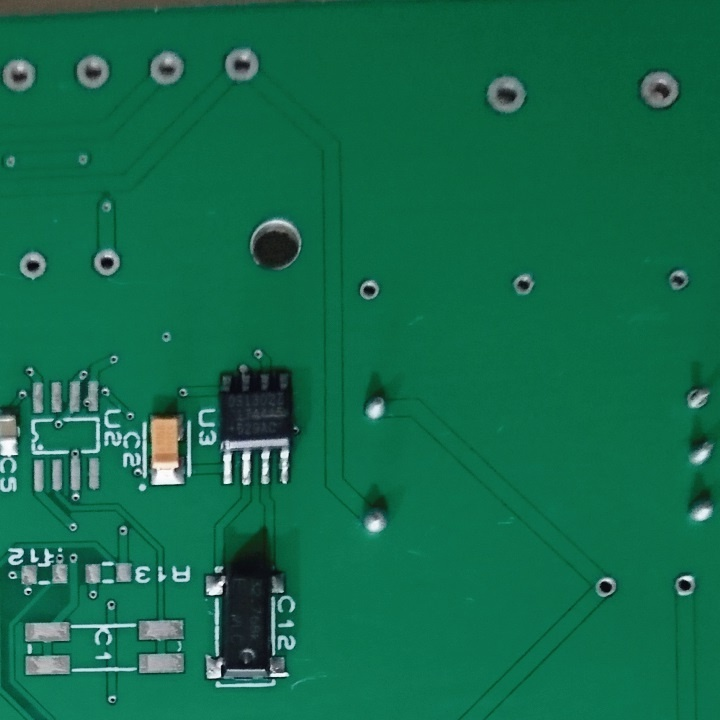F: (635, 64, 687, 115), (483, 69, 533, 118), (219, 41, 265, 89), (68, 47, 114, 94), (144, 47, 191, 93), (1, 50, 44, 98), (87, 248, 129, 280), (681, 378, 714, 418), (13, 251, 53, 283), (672, 570, 701, 605), (593, 572, 619, 603), (510, 272, 540, 298), (666, 269, 694, 295), (357, 277, 382, 306)
